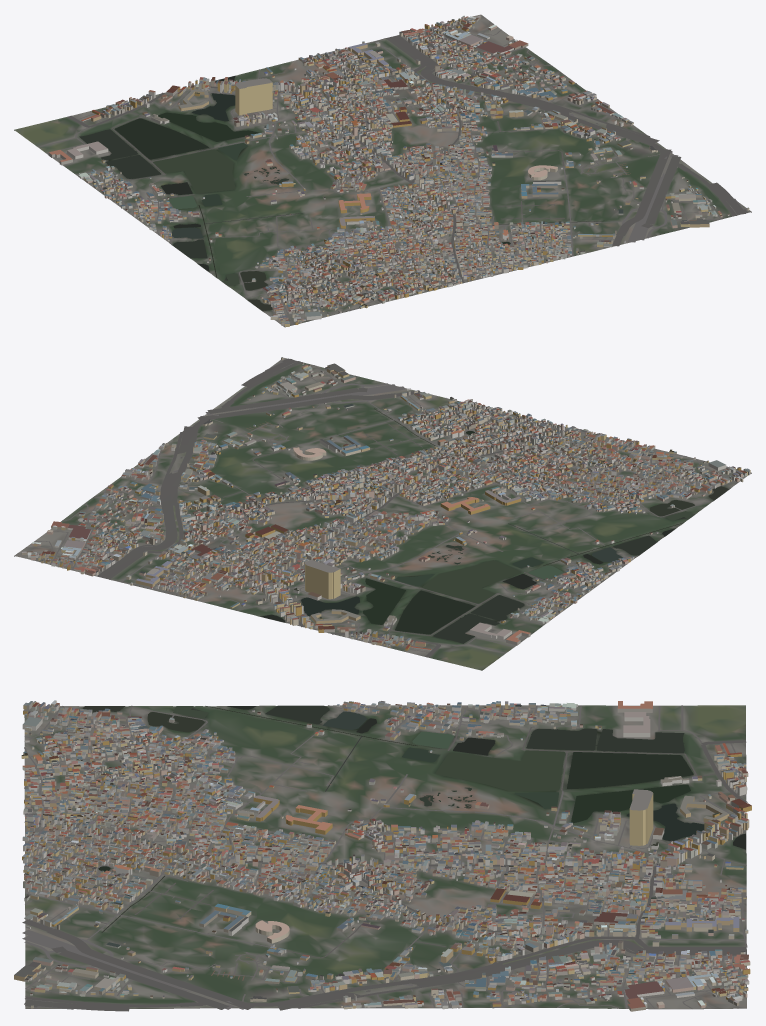
3 views of the same model, one above another, from view 1: azimuth 30°, elevation 25°; view 2: azimuth 150°, elevation 25°; view 3: azimuth 270°, elevation 25° (orthographic). The views are drawn at different scales.
Visible parts, largest first — view 1: buildings, ground, roads, water; view 2: buildings, ground, roads, water; view 3: buildings, ground, roads, water.
Part boxes in pixels (x1,y1,x2,y2): buildings: [48, 15, 749, 326]; ground: [14, 14, 751, 327]; roads: [38, 17, 747, 325]; water: [79, 75, 604, 310]; buildings: [21, 357, 750, 650]; ground: [14, 357, 751, 670]; roads: [17, 358, 743, 657]; water: [261, 408, 728, 643]; buildings: [14, 700, 751, 1011]; ground: [24, 705, 746, 1009]; roads: [22, 705, 747, 1011]; water: [83, 705, 745, 932].
Bounding box in the file's own units: 1421 × 80.53 × 1434.
